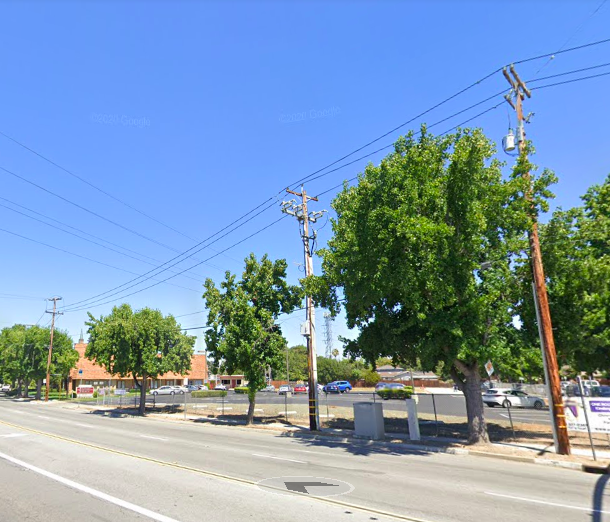utility_pole: (488, 54, 536, 125), (274, 180, 323, 230)
